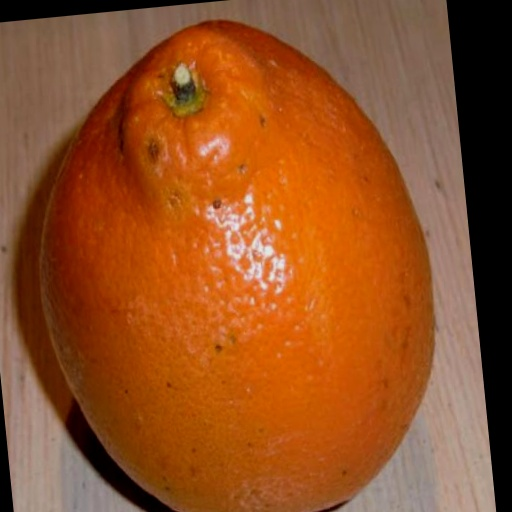fruit: (41, 22, 433, 512)
